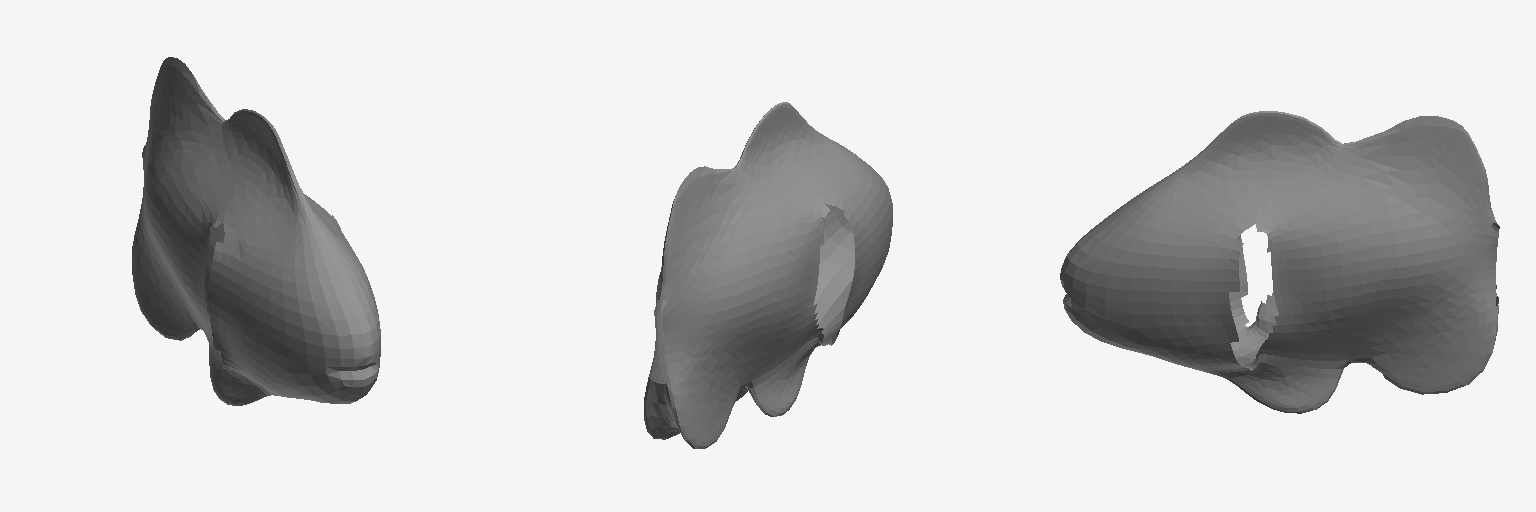
File: psFTorzo.obj
The picture shows the model from 3 angles: view 1: azimuth 30°, elevation 25°; view 2: azimuth 150°, elevation 25°; view 3: azimuth 270°, elevation 25°; orthographic projection.
Parts seen in each view (by area): view 1: Clownfish001; view 2: Clownfish001; view 3: Clownfish001.
Boxes of the visible parts, box(x1,y1,x2,y2) form: Clownfish001: box(132, 57, 380, 405); Clownfish001: box(644, 102, 892, 448); Clownfish001: box(1060, 111, 1499, 413).
Size of the model in its own units: 5.55 by 11.45 by 15.74.